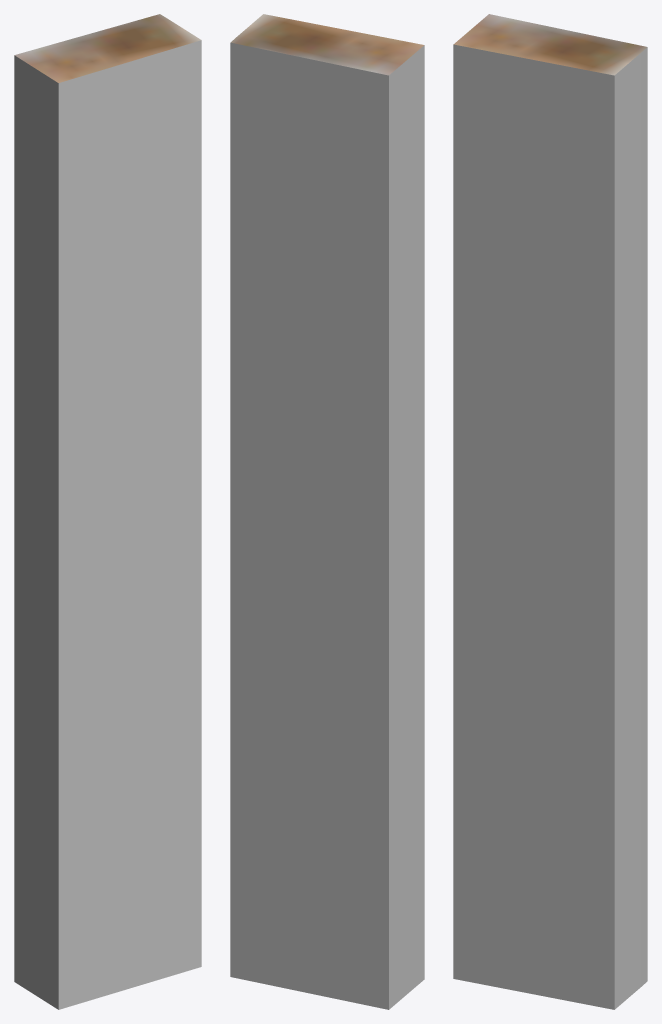
The model's file is DEBW_0010007THW0.gltf.
3 renders of one model, left to right at view 1: azimuth 30°, elevation 25°; view 2: azimuth 150°, elevation 25°; view 3: azimuth 330°, elevation 25°, orthographic.
Parts seen in each view (by area): view 1: Z_UP; view 2: Z_UP; view 3: Z_UP.
Boxes of the visible parts, x1,y1,x2,y2 form: Z_UP: (14,14,201,1009); Z_UP: (230,14,424,1009); Z_UP: (453,14,647,1009).
Size of the model in its own units: 3.12 by 17.72 by 1.58.
2 materials, 1 textured.
